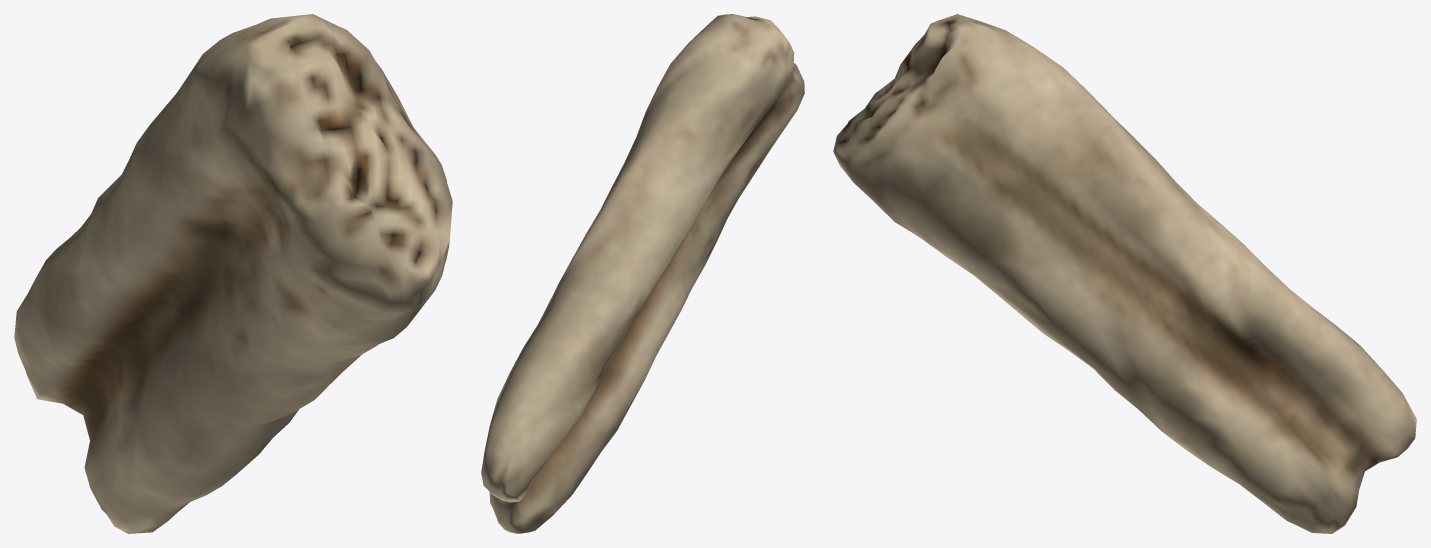
Rendered from Mandibular_Molar2.glb.
The picture shows the model from 3 angles, left to right: view 1: azimuth 30°, elevation 25°; view 2: azimuth 150°, elevation 25°; view 3: azimuth 270°, elevation 25°; orthographic projection. The views are drawn at different scales.
Parts seen in each view (by area): view 1: Mandibular_Molar2.glb; view 2: Mandibular_Molar2.glb; view 3: Mandibular_Molar2.glb.
Boxes of the visible parts, left/top/right/bottom form: Mandibular_Molar2.glb: left=14, top=14, right=452, bottom=533; Mandibular_Molar2.glb: left=481, top=14, right=804, bottom=533; Mandibular_Molar2.glb: left=833, top=14, right=1416, bottom=533.
Size of the model in its own units: 0.021 by 0.0614 by 0.0679.
1 material, 1 textured.
